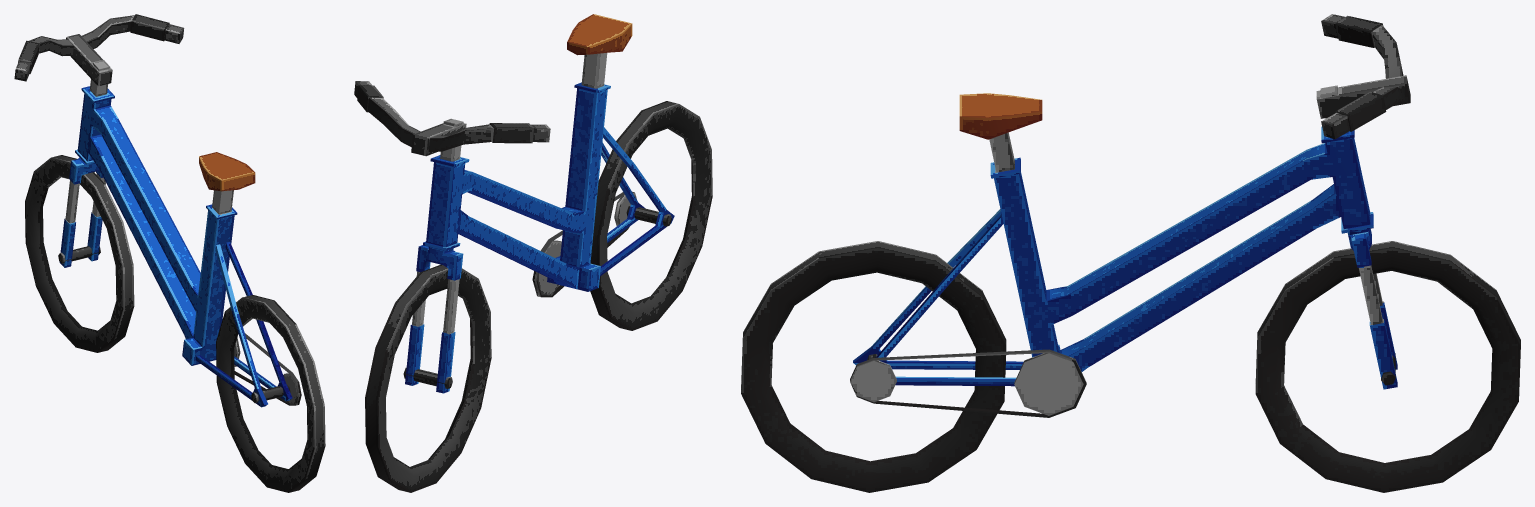
The model's file is mamachari.glb.
3 renders of one model, left to right at view 1: azimuth 30°, elevation 25°; view 2: azimuth 150°, elevation 25°; view 3: azimuth 270°, elevation 25°, orthographic. The views are drawn at different scales.
Visible parts, largest first — view 1: mesh; view 2: mesh; view 3: mesh.
Boxes of the visible parts, box(x1,y1,x2,y2) form: mesh: box(14, 14, 325, 492); mesh: box(354, 14, 712, 492); mesh: box(741, 14, 1520, 492).
Bounding box in the file's own units: 0.6566 × 1.19 × 1.95.
1 material, 1 textured.
